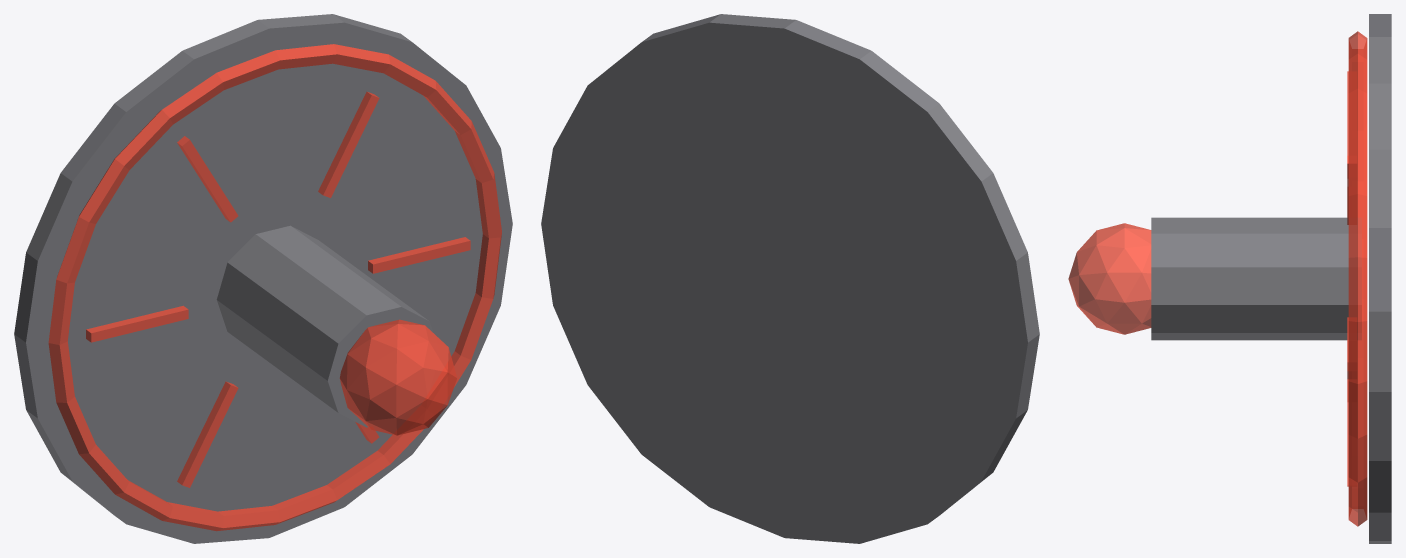
Rendered from astral_sovereign_zero_g_node.glb.
3 views of the same model, side by side, from view 1: azimuth 30°, elevation 25°; view 2: azimuth 150°, elevation 25°; view 3: azimuth 270°, elevation 25° (orthographic). The views are drawn at different scales.
Visible parts, largest first — view 1: arena_plate, mechanic_core, warning_ring, activation_orb, floor_rune_4, floor_rune_1, floor_rune_3, floor_rune_0, floor_rune_2; view 2: arena_plate; view 3: mechanic_core, arena_plate, warning_ring, activation_orb.
Part boxes in pixels (left/top/right/bottom): arena_plate: left=14, top=14, right=512, bottom=543; mechanic_core: left=216, top=225, right=439, bottom=427; warning_ring: left=48, top=44, right=501, bottom=531; activation_orb: left=339, top=319, right=457, bottom=435; floor_rune_4: left=177, top=381, right=238, bottom=487; floor_rune_1: left=318, top=91, right=379, bottom=197; floor_rune_3: left=86, top=305, right=188, bottom=342; floor_rune_0: left=368, top=237, right=470, bottom=273; floor_rune_2: left=177, top=136, right=238, bottom=222; arena_plate: left=541, top=14, right=1039, bottom=543; mechanic_core: left=1151, top=217, right=1361, bottom=340; arena_plate: left=1369, top=14, right=1391, bottom=543; warning_ring: left=1348, top=31, right=1367, bottom=526; activation_orb: left=1068, top=223, right=1151, bottom=334.
Bounding box in the file's own units: 1.9 × 1.9 × 1.15.
